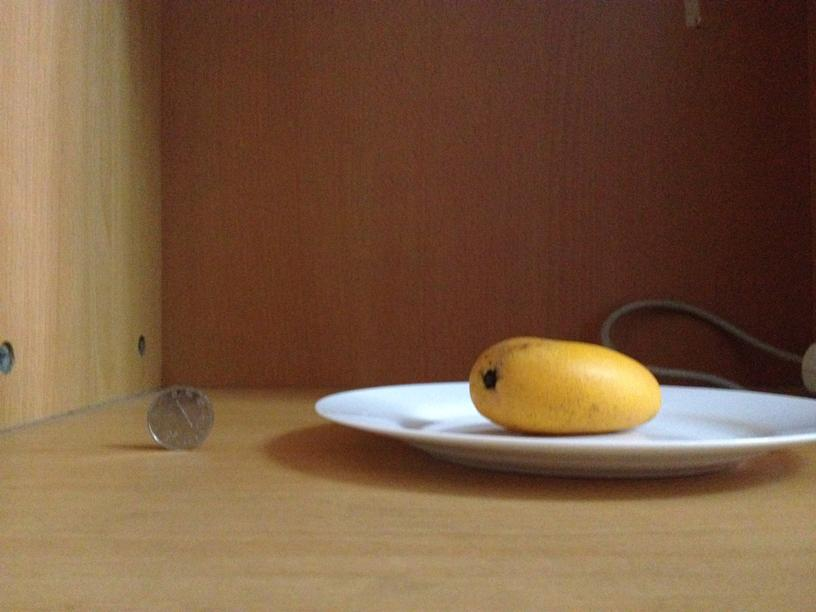coin: (144, 384, 212, 452)
mango: (466, 338, 662, 432)
